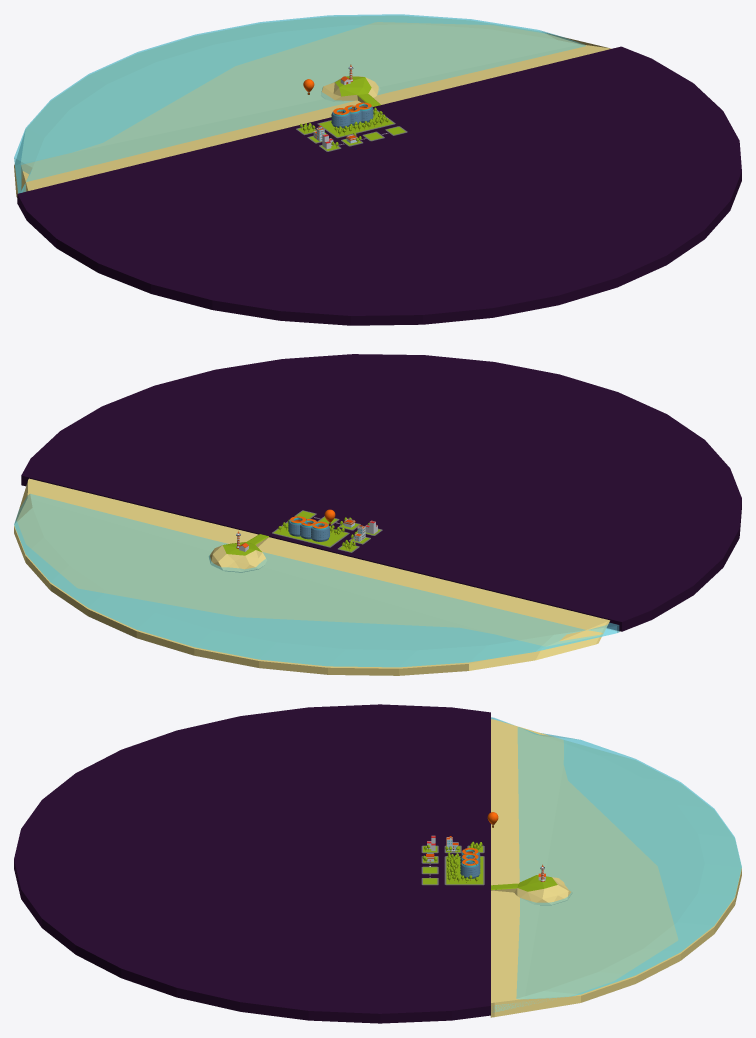
Rendered from modelo-osoco.glb.
3 renders of one model, top to bottom at view 1: azimuth 30°, elevation 25°; view 2: azimuth 150°, elevation 25°; view 3: azimuth 270°, elevation 25°, orthographic.
Visible parts, largest first — view 1: asfalto, arena, mar, Icosphere, edificio-osoco, acera-osoco; view 2: asfalto, arena, mar, Icosphere, edificio-osoco; view 3: asfalto, arena, mar, Icosphere, acera-osoco, edificio-osoco.
Boxes of the visible parts, x1,y1,x2,y2 form: asfalto: [17, 46, 741, 325]; arena: [14, 16, 611, 197]; mar: [14, 14, 585, 193]; Icosphere: [321, 76, 380, 101]; edificio-osoco: [331, 102, 373, 128]; acera-osoco: [317, 110, 395, 138]; asfalto: [21, 354, 741, 631]; arena: [14, 478, 609, 675]; mar: [14, 494, 619, 667]; Icosphere: [209, 542, 266, 572]; edificio-osoco: [288, 516, 330, 541]; asfalto: [14, 704, 490, 1023]; arena: [490, 719, 741, 1017]; mar: [491, 717, 741, 1012]; Icosphere: [514, 875, 572, 905]; acera-osoco: [444, 856, 484, 885]; edificio-osoco: [460, 848, 480, 878].
Bounding box in the file's own units: 1023 × 90.79 × 1017.
